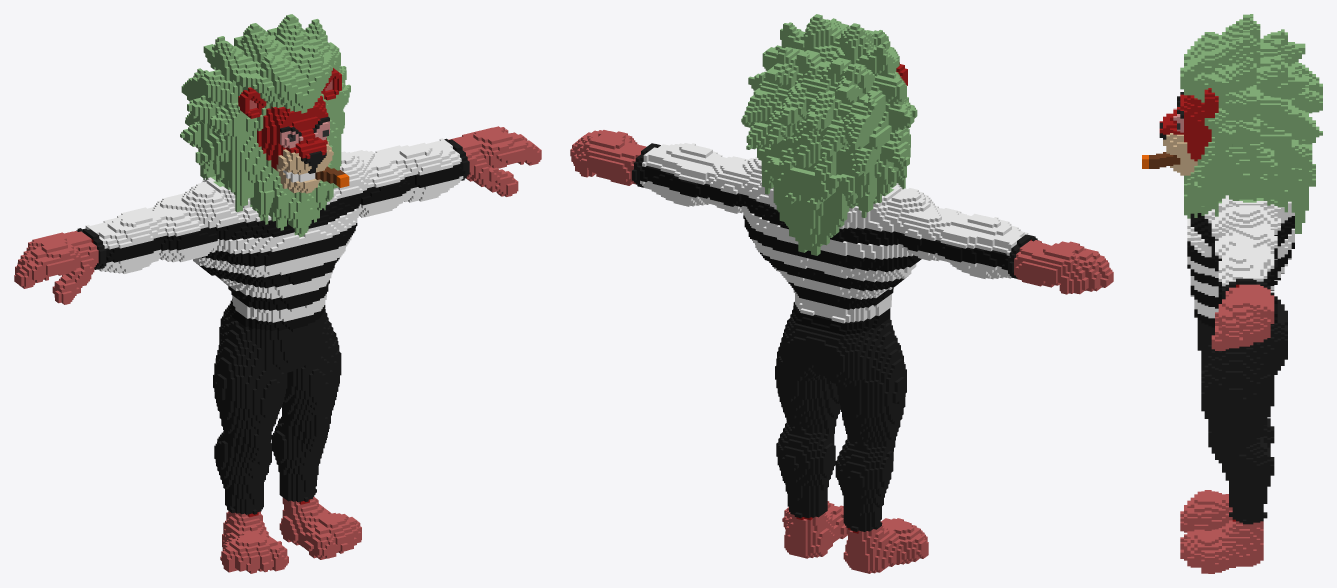
3 renders of one model, left to right at view 1: azimuth 30°, elevation 25°; view 2: azimuth 150°, elevation 25°; view 3: azimuth 270°, elevation 25°, orthographic. The views are drawn at different scales.
Parts seen in each view (by area): view 1: cigar; view 2: cigar; view 3: cigar.
Part boxes in pixels (x1,y1,x2,y2): cigar: (14,14,541,573); cigar: (570,14,1113,573); cigar: (1142,14,1322,573).
Size of the model in its own units: 17.2 by 16.5 by 5.2.
5 materials, 5 textured.
